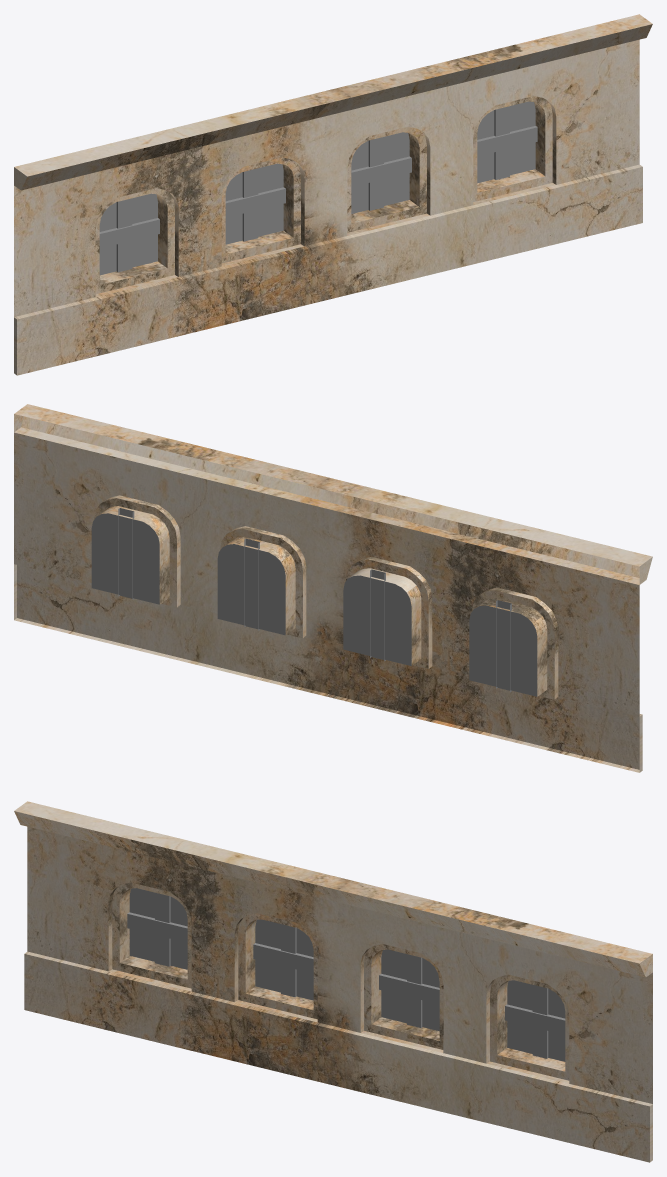
The model's file is Batiment_2_4_fenetre_Croix.FBX.
3 views of the same model, one above another, from view 1: azimuth 30°, elevation 25°; view 2: azimuth 150°, elevation 25°; view 3: azimuth 330°, elevation 25° (orthographic).
Visible parts, largest first — view 1: Object017; view 2: Object017; view 3: Object017.
Part boxes in pixels (<box>): Object017: <box>14,14,652,375</box>; Object017: <box>14,404,652,772</box>; Object017: <box>14,801,652,1162</box>.
Size of the model in its own units: 530 by 39.55 by 167.
3 materials, 1 textured.
